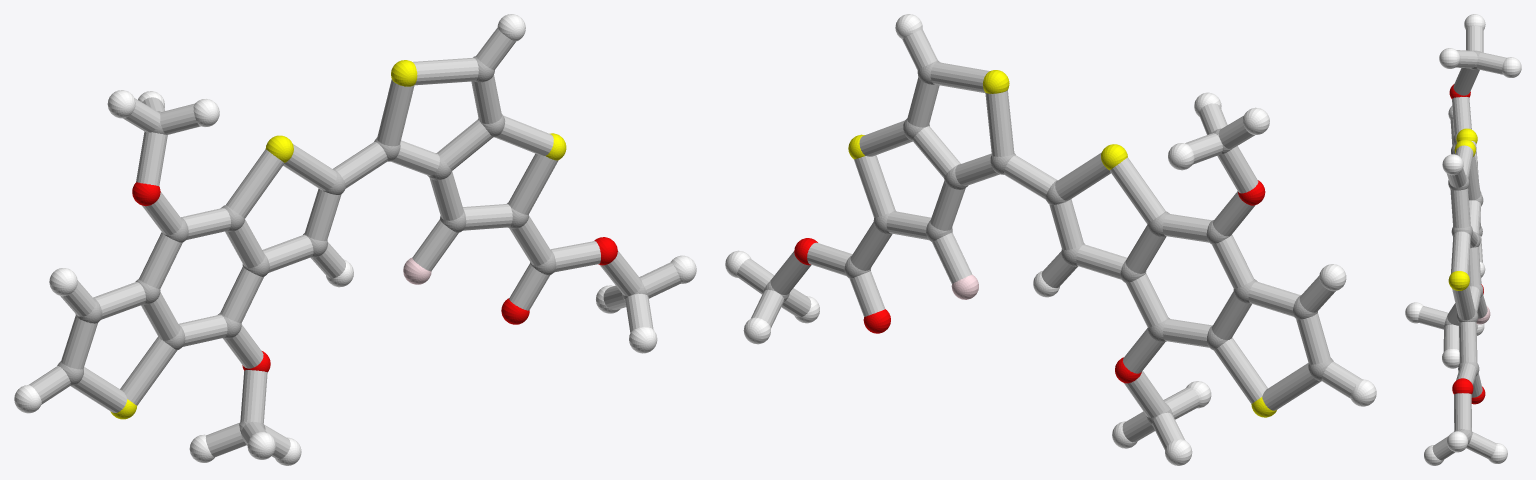
File: color.glb
3 views of the same model, side by side, from view 1: azimuth 30°, elevation 25°; view 2: azimuth 150°, elevation 25°; view 3: azimuth 270°, elevation 25° (orthographic). The views are drawn at different scales.
Parts seen in each view (by area): view 1: grp15205, grp8689, grp1, grp7241, grp13395; view 2: grp15205, grp8689, grp1, grp13395, grp7241; view 3: grp15205, grp8689, grp1, grp7241, grp13395.
Part boxes in pixels (bbox=[...]): grp15205: bbox=[29, 28, 680, 459]; grp8689: bbox=[14, 14, 696, 465]; grp1: bbox=[57, 56, 647, 433]; grp7241: bbox=[110, 60, 566, 419]; grp13395: bbox=[132, 182, 617, 372]; grp15205: bbox=[737, 29, 1361, 450]; grp8689: bbox=[725, 14, 1376, 465]; grp1: bbox=[764, 60, 1333, 425]; grp13395: bbox=[794, 180, 1265, 383]; grp7241: bbox=[848, 70, 1276, 417]; grp15205: bbox=[1418, 26, 1506, 460]; grp8689: bbox=[1405, 14, 1521, 465]; grp1: bbox=[1444, 50, 1483, 437]; grp7241: bbox=[1448, 128, 1477, 290]; grp13395: bbox=[1449, 84, 1485, 404].
Bounding box in the file's own units: 16.43 × 9.27 × 3.29.
